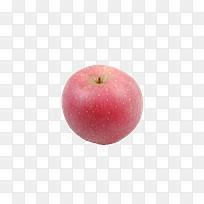apple: (60, 65, 144, 146)
